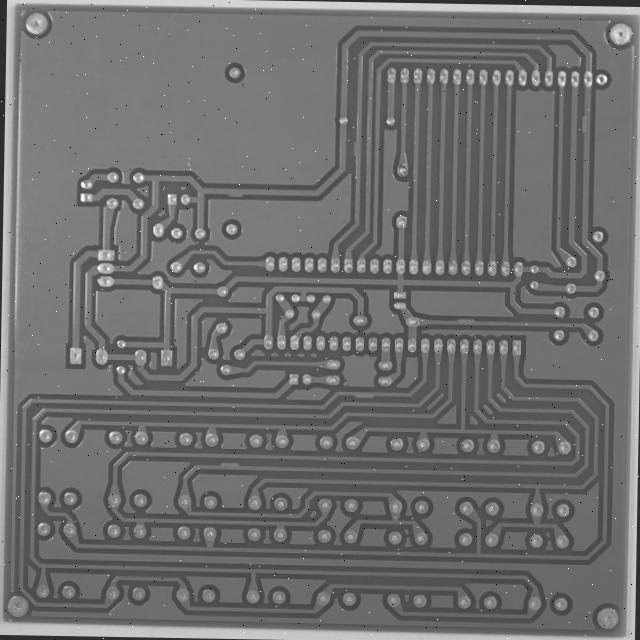spur: (225, 485, 258, 505), (371, 413, 401, 429), (235, 196, 262, 212), (615, 117, 629, 144), (370, 142, 385, 167), (483, 335, 509, 347)
